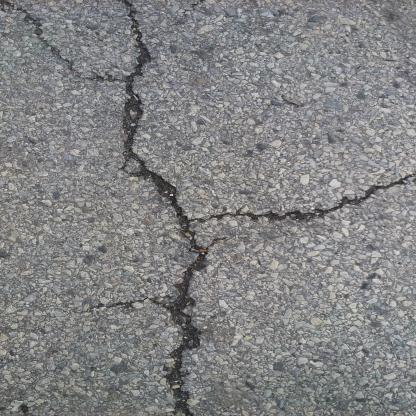Cracks: (0, 0, 220, 415), (180, 172, 416, 229)
